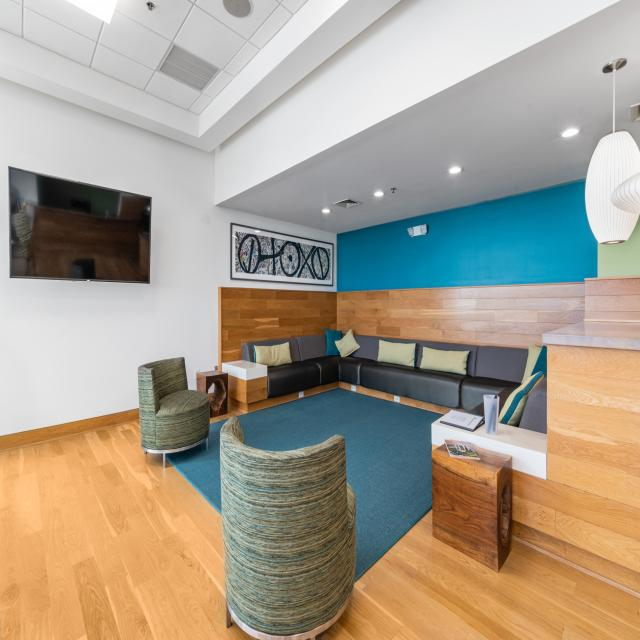floor: (0, 409, 258, 640), (314, 507, 640, 640)
wall: (0, 77, 337, 436), (215, 0, 625, 205), (431, 334, 640, 573), (337, 178, 598, 292), (0, 28, 199, 138), (199, 0, 350, 138), (337, 282, 585, 349), (218, 287, 337, 371), (543, 275, 640, 339), (598, 214, 640, 278)
